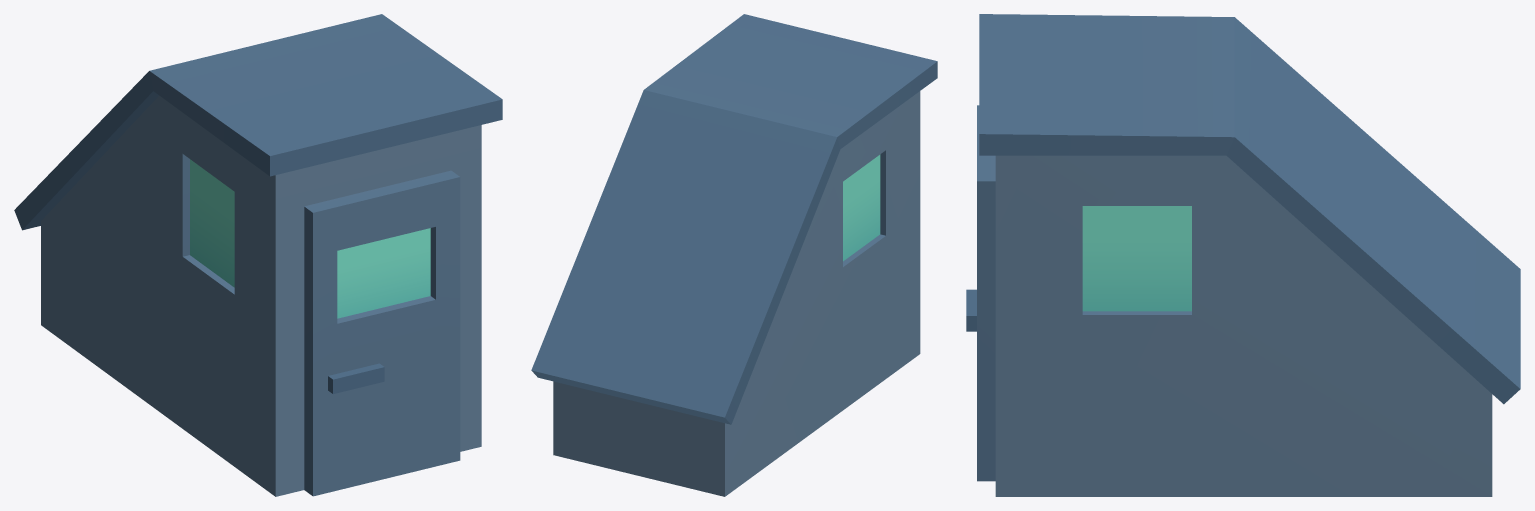
File: roof_house.fbx
3 views of the same model, side by side, from view 1: azimuth 30°, elevation 25°; view 2: azimuth 150°, elevation 25°; view 3: azimuth 270°, elevation 25° (orthographic). The views are drawn at different scales.
Visible parts, largest first — view 1: roof_house; view 2: roof_house; view 3: roof_house.
Boxes of the visible parts, left/top/right/bottom form: roof_house: left=14, top=14, right=502, bottom=496; roof_house: left=531, top=14, right=937, bottom=496; roof_house: left=966, top=14, right=1520, bottom=496.
Bounding box in the file's own units: 142 × 204 × 277.
